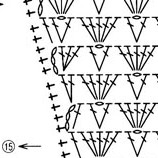enseble_chain: (31, 0, 65, 48), (93, 69, 128, 107), (90, 12, 126, 48), (114, 96, 143, 133), (66, 127, 100, 158), (113, 40, 142, 76), (51, 15, 81, 47), (76, 70, 104, 104), (131, 41, 158, 76), (89, 101, 119, 132), (90, 44, 119, 76), (127, 15, 156, 47), (131, 99, 158, 133), (56, 70, 81, 105), (121, 66, 144, 103), (131, 129, 158, 158), (131, 73, 156, 103), (63, 104, 89, 131), (121, 14, 141, 44), (52, 45, 71, 73), (92, 131, 110, 158), (18, 138, 42, 154), (44, 0, 64, 19), (36, 0, 46, 17), (4, 139, 15, 154)
fan: (130, 45, 143, 72)
